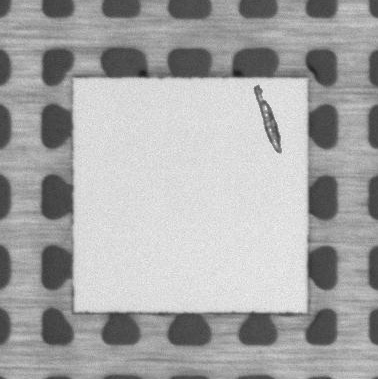DIE_INK: (250, 84, 284, 155)
